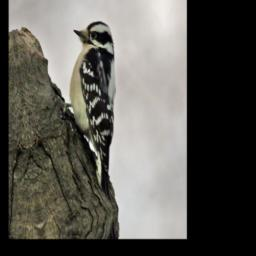Woodpecker: (44, 10, 136, 221)
